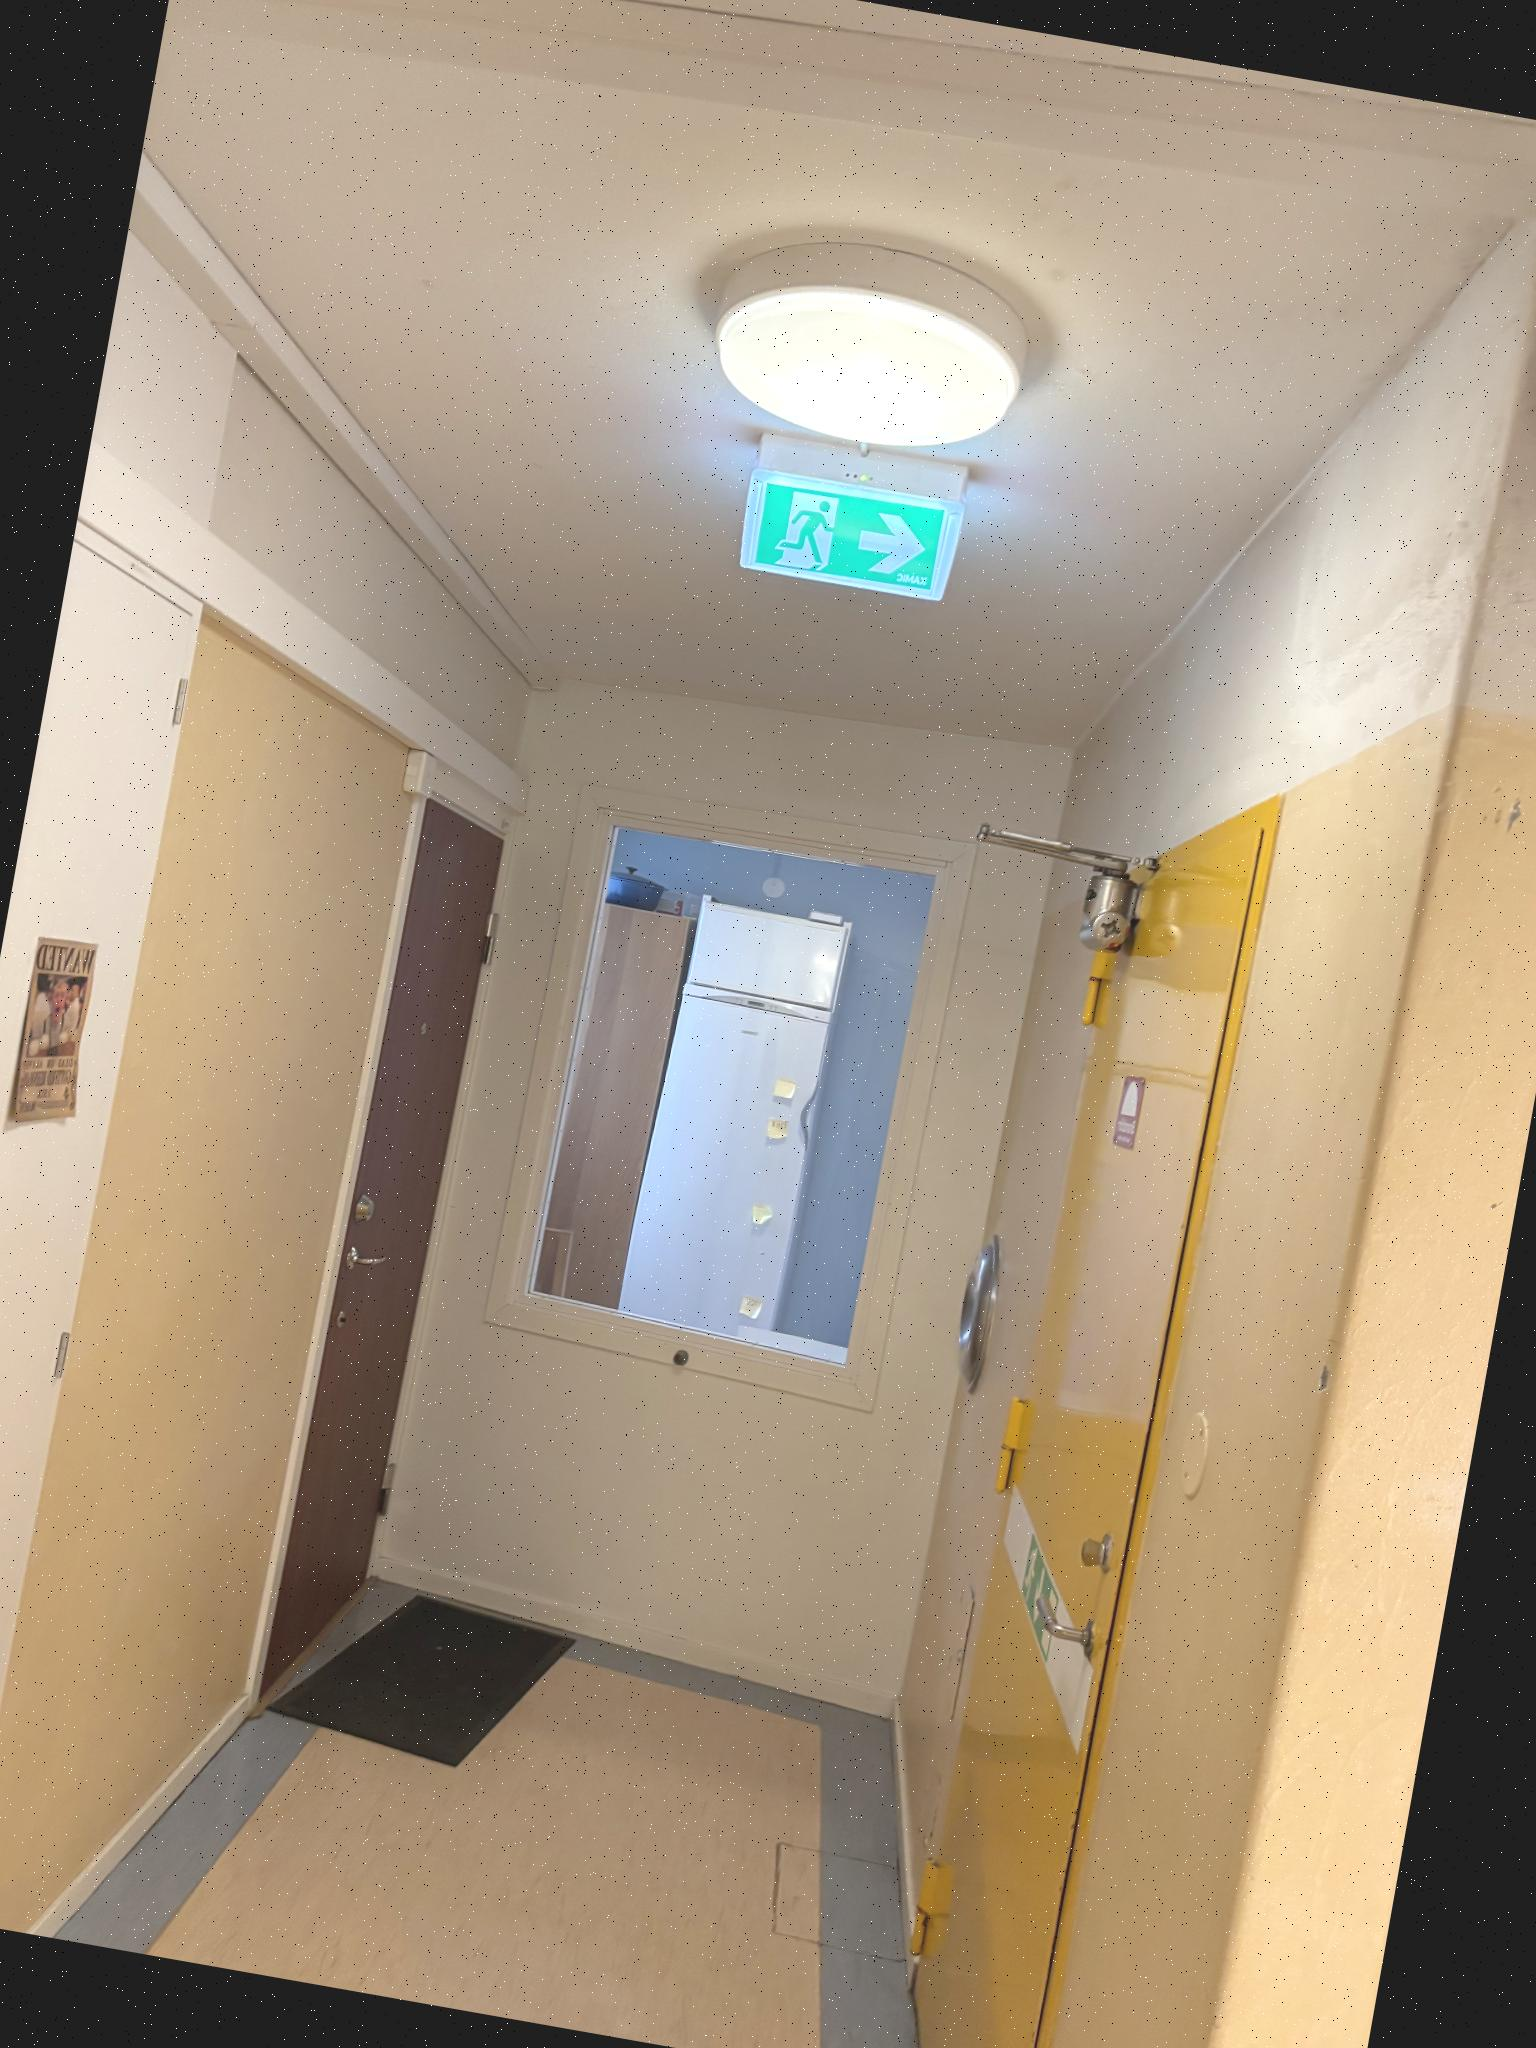exit_sign: (728, 469, 962, 605)
